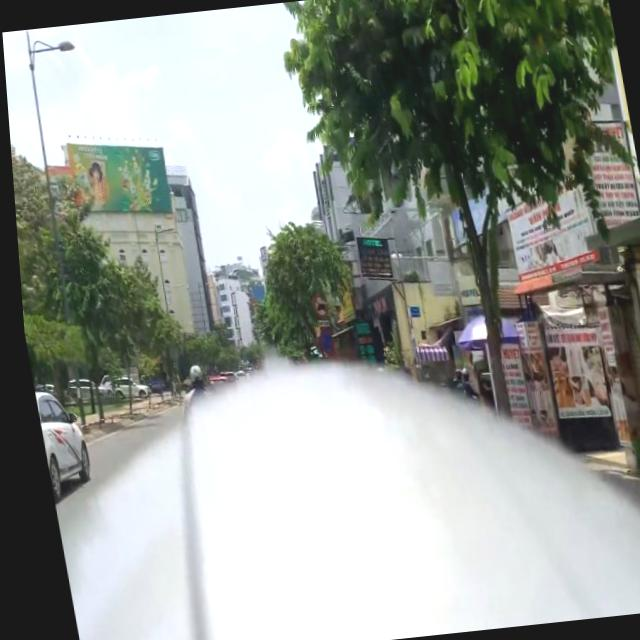Cam do xe: (312, 328, 331, 354)
